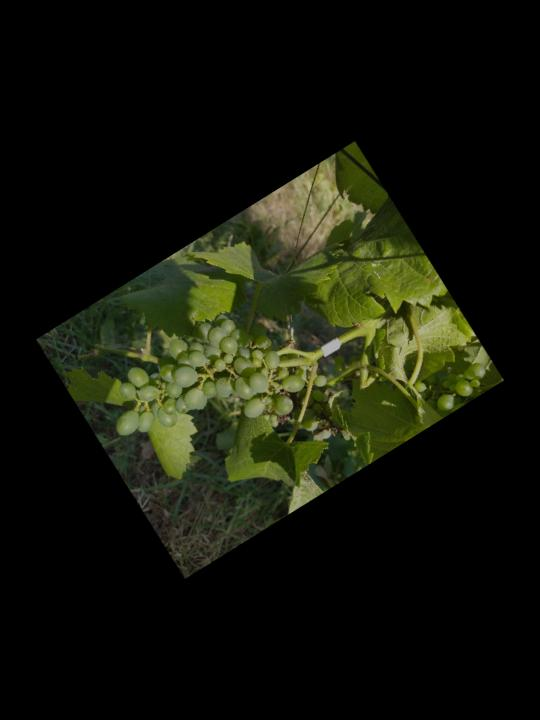grape: (80, 278, 318, 500)
